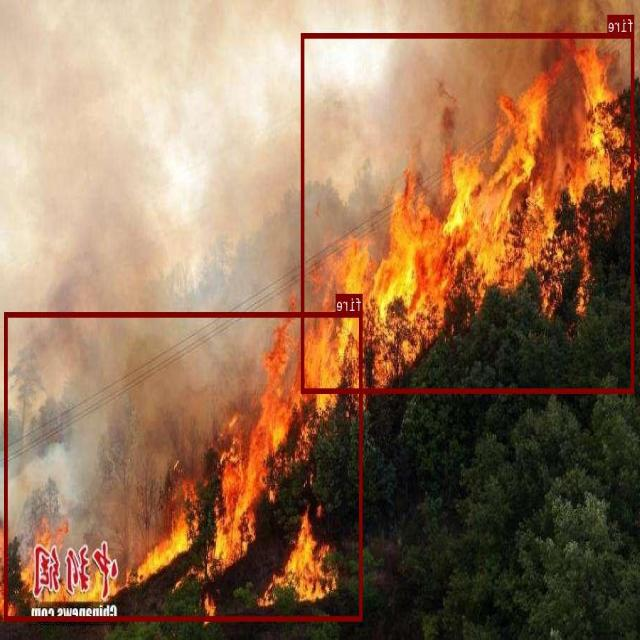fire: (302, 32, 635, 393), (5, 312, 363, 620)
